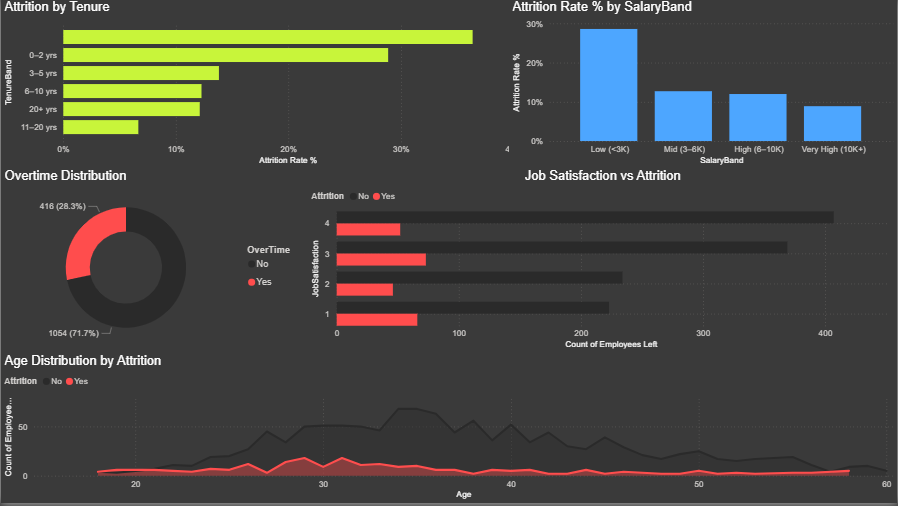

The page's visual inventory and layout, read from the dashboard file:
{"tool":"powerbi","page":{"name":"Deep Dive","canvas":[1280,720],"ordinal":1},"visuals":[{"type":"clusteredBarChart","title":"Attrition by Tenure","fields":{"Category":["hr_attrition_cleaned.TenureBand"],"Y":["hr_attrition_cleaned.Attrition Rate %"]},"box":[0,0,750.2,241.9],"z":0},{"type":"clusteredColumnChart","fields":{"Category":["hr_attrition_cleaned.SalaryBand"],"Y":["hr_attrition_cleaned.Attrition Rate %"]},"box":[725.7,0,554.3,241.9],"z":1000},{"type":"donutChart","title":"Overtime Distribution","fields":{"Category":["hr_attrition_cleaned.OverTime"],"Y":["CountNonNull(hr_attrition_cleaned.Employees)"]},"box":[0,241.9,437.9,263.3],"z":2000},{"type":"clusteredBarChart","title":"Job Satisfaction vs Attrition","fields":{"Series":["hr_attrition_cleaned.Attrition"],"Y":["CountNonNull(hr_attrition_cleaned.Employees)"],"Category":["hr_attrition_cleaned.JobSatisfaction"]},"box":[437.9,241.9,842.1,263.3],"z":3000},{"type":"areaChart","title":"Age Distribution by Attrition","fields":{"Category":["hr_attrition_cleaned.Age"],"Y":["CountNonNull(hr_attrition_cleaned.Employees)"],"Series":["hr_attrition_cleaned.Attrition"]},"box":[0,505.3,1280,214.4],"z":4000}]}

Visuals, with their boxes in screenshot pixels (x1, y1, x2, y2), scaled from the page's 1280x720 canvas onto the 898x506 screenshot:
"Attrition by Tenure" clusteredBarChart: detection(0, 0, 526, 170)
clusteredColumnChart - hr_attrition_cleaned.SalaryBand x hr_attrition_cleaned.Attrition Rate %: detection(509, 0, 897, 170)
"Overtime Distribution" donutChart: detection(0, 170, 307, 355)
"Job Satisfaction vs Attrition" clusteredBarChart: detection(307, 170, 897, 355)
"Age Distribution by Attrition" areaChart: detection(0, 355, 897, 505)
